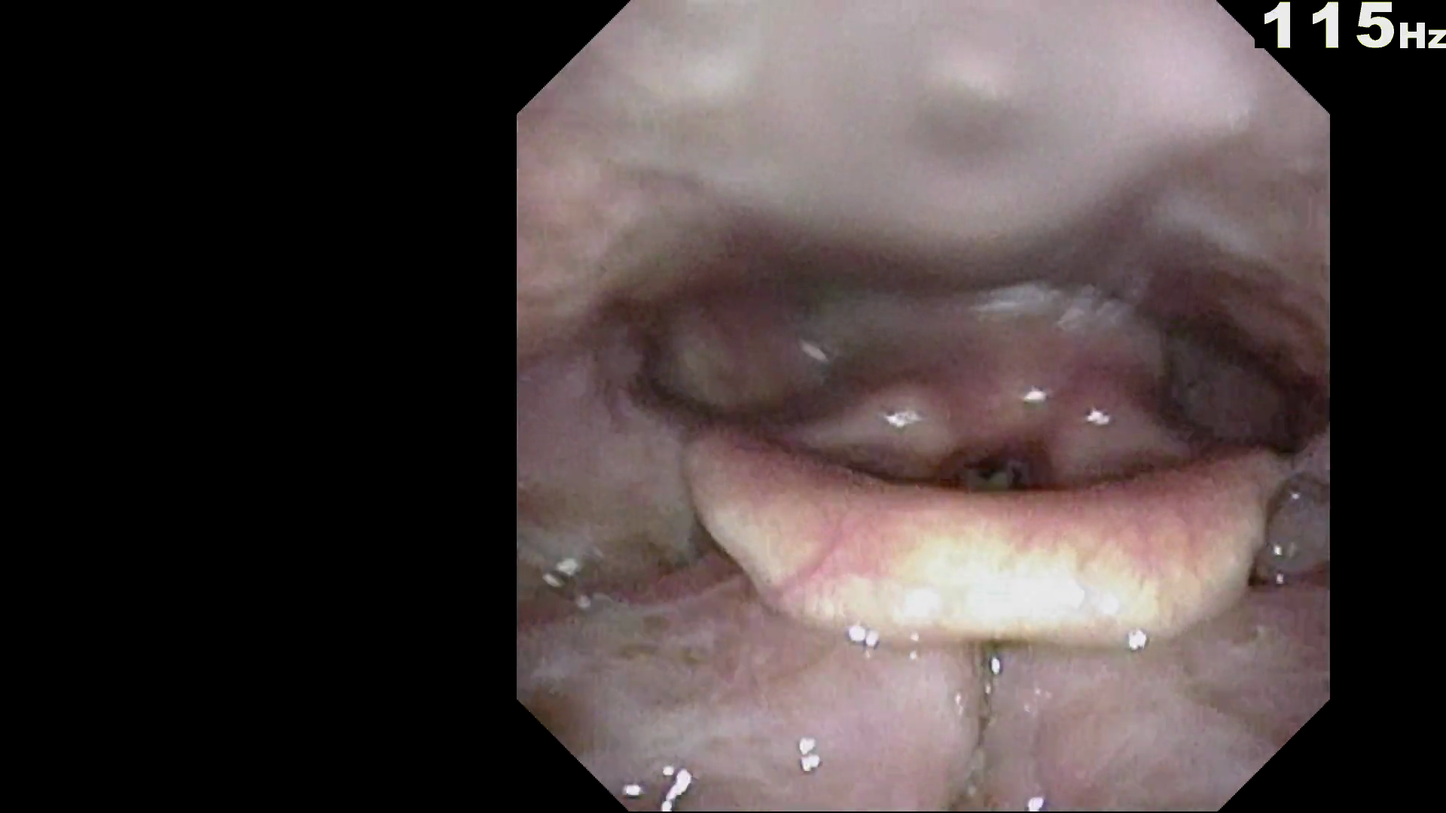epiglottis: (664, 457, 1316, 655)
trachea: (931, 426, 1061, 499)
